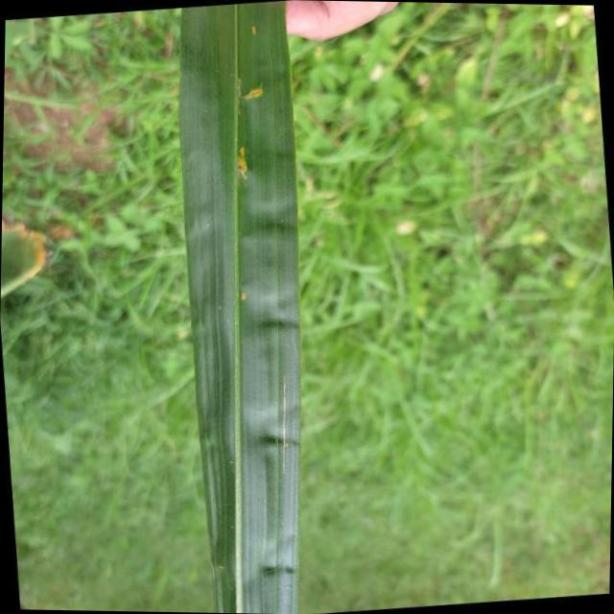Boron: (176, 0, 304, 614)
